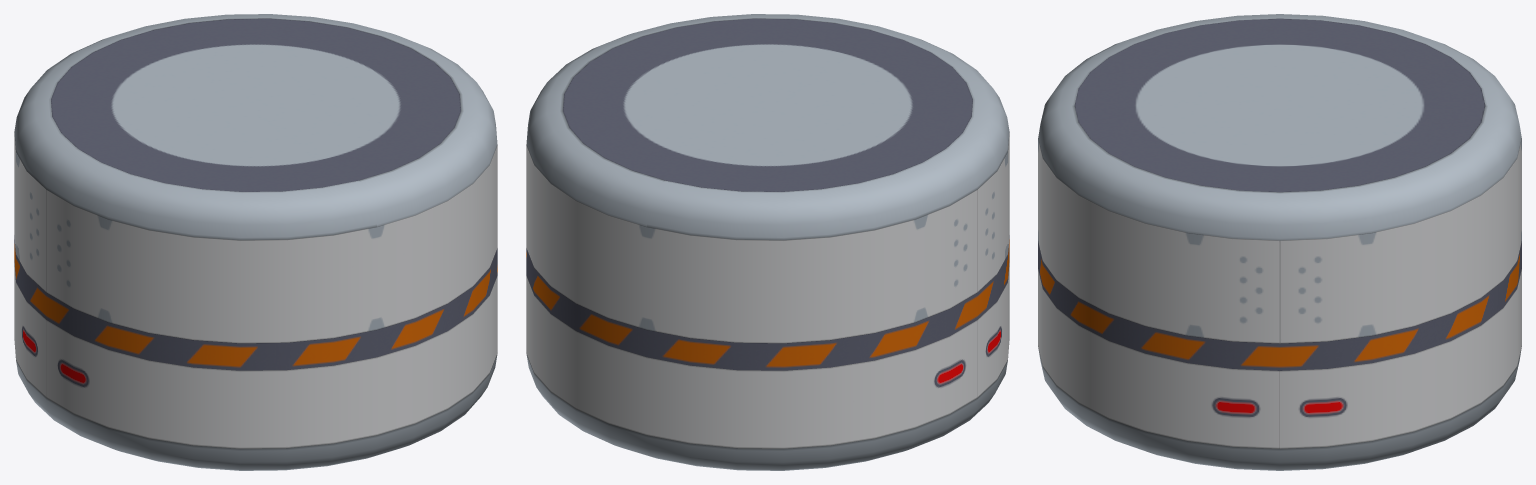
File: Tube_End_02.FBX
3 renders of one model, left to right at view 1: azimuth 30°, elevation 25°; view 2: azimuth 150°, elevation 25°; view 3: azimuth 270°, elevation 25°, orthographic.
Visible parts, largest first — view 1: Tube_End_02; view 2: Tube_End_02; view 3: Tube_End_02.
Part boxes in pixels (bbox=[...]): Tube_End_02: bbox=[14, 14, 497, 470]; Tube_End_02: bbox=[526, 14, 1009, 470]; Tube_End_02: bbox=[1038, 14, 1521, 470].
Size of the model in its own units: 4 by 2.5 by 4.
